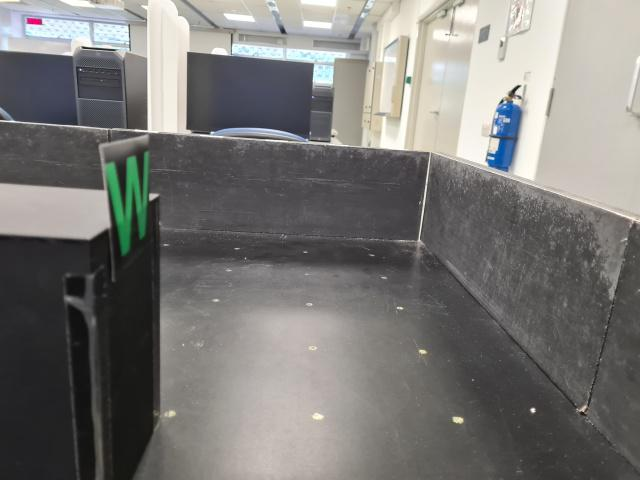w: (97, 134, 156, 282)
